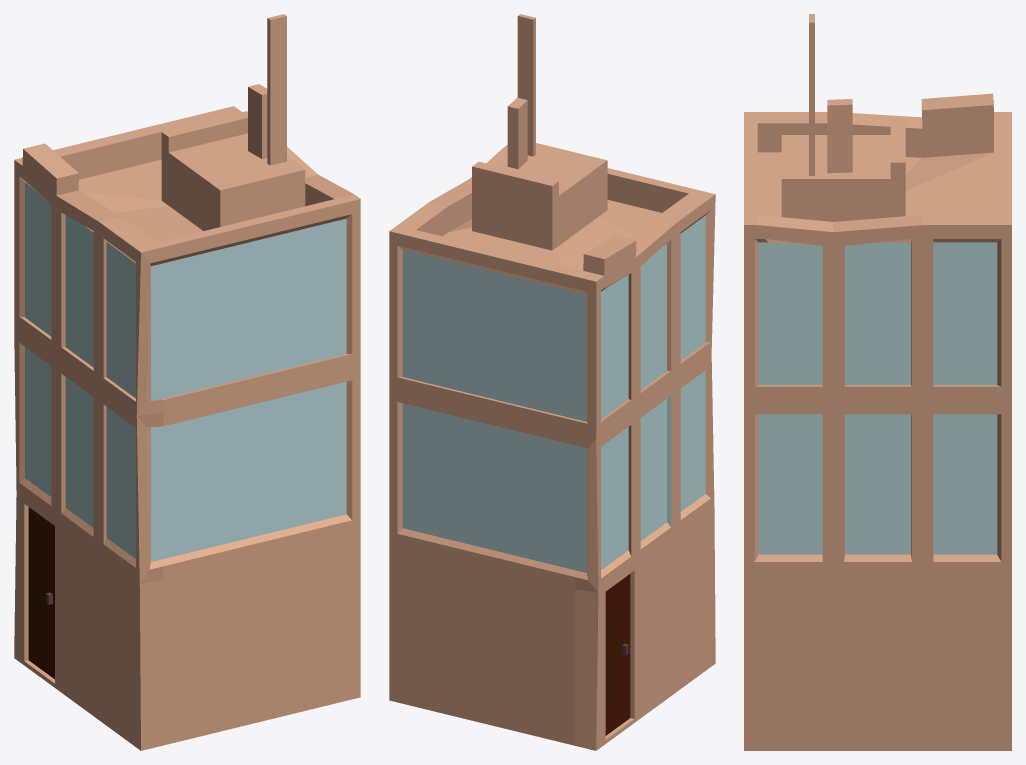
The model's file is skyscraper2.fbx.
The picture shows the model from 3 angles, left to right: view 1: azimuth 30°, elevation 25°; view 2: azimuth 150°, elevation 25°; view 3: azimuth 270°, elevation 25°; orthographic projection. The views are drawn at different scales.
Visible parts, largest first — view 1: Building_1; view 2: Building_1; view 3: Building_1.
Boxes of the visible parts, x1,y1,x2,y2 form: Building_1: (14,14,360,750); Building_1: (389,14,715,750); Building_1: (744,14,1011,750).
Size of the model in its own units: 200 by 582 by 200.
